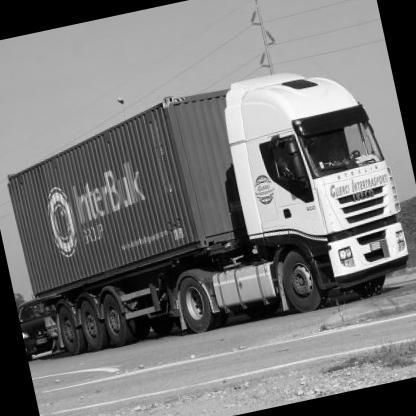truck: (1, 54, 416, 378)
